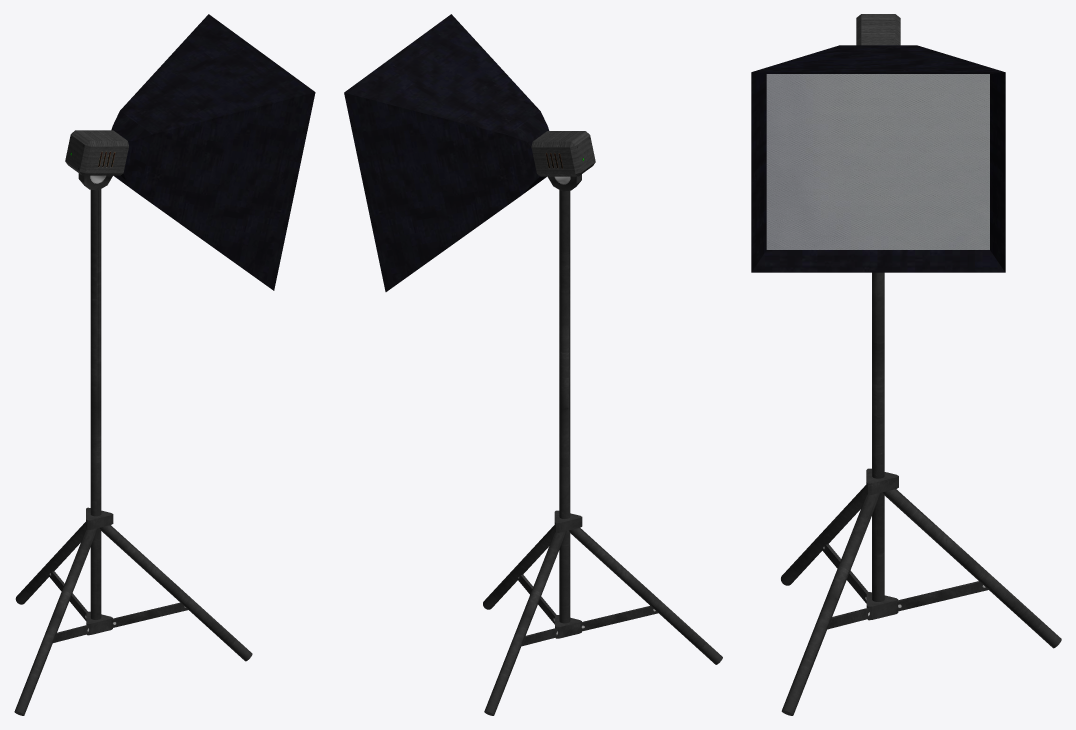
File: key-light.glb
The picture shows the model from 3 angles, left to right: view 1: azimuth 30°, elevation 25°; view 2: azimuth 150°, elevation 25°; view 3: azimuth 270°, elevation 25°; orthographic projection. The views are drawn at different scales.
Visible parts, largest first — view 1: Cube; view 2: Cube; view 3: Cube.
Boxes of the visible parts, left/top/right/bottom form: Cube: left=14, top=14, right=315, bottom=715; Cube: left=344, top=14, right=722, bottom=715; Cube: left=751, top=14, right=1061, bottom=715.
Size of the model in its own units: 3.08 by 5.86 by 2.44.
Materials: 7 (7 with a texture image).
